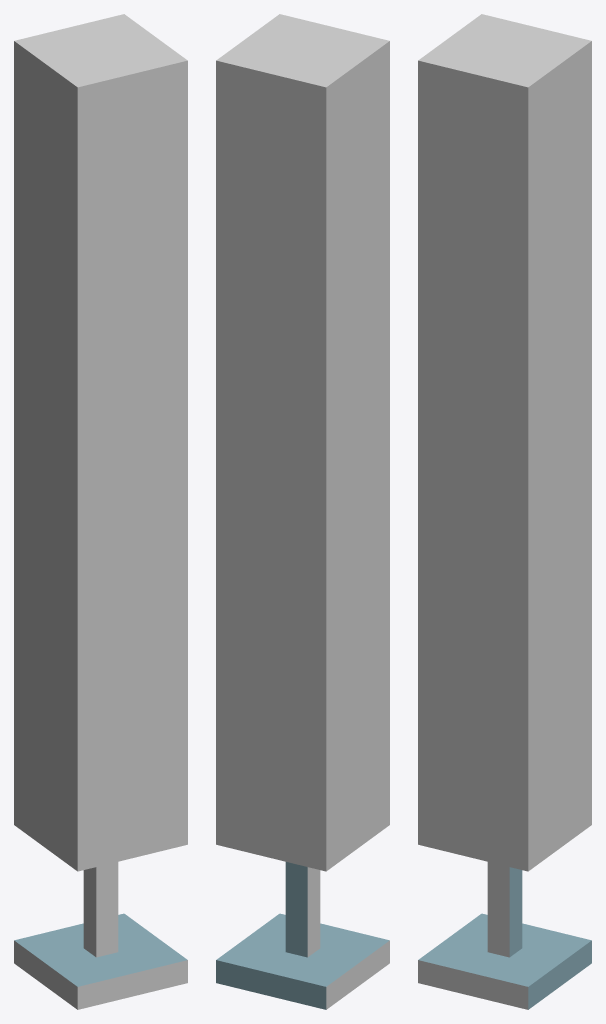
The model's file is LP_furniture_lampFloor.fbx.
The picture shows the model from 3 angles, left to right: view 1: azimuth 30°, elevation 25°; view 2: azimuth 150°, elevation 25°; view 3: azimuth 330°, elevation 25°; orthographic projection.
Parts seen in each view (by area): view 1: lamp-floor; view 2: lamp-floor; view 3: lamp-floor.
Boxes of the visible parts, x1,y1,x2,y2 form: lamp-floor: (14,14,187,1009); lamp-floor: (216,14,389,1009); lamp-floor: (418,14,591,1009).
Size of the model in its own units: 50 by 400 by 50.
